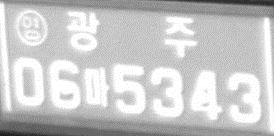0: (13, 56, 47, 107)
3: (149, 66, 185, 118), (227, 71, 262, 124)
4: (188, 70, 222, 121)
5: (111, 63, 146, 114)
6: (48, 59, 82, 111)
광주_D: (65, 9, 197, 57)
마: (83, 67, 110, 108)
영: (15, 9, 47, 46)
